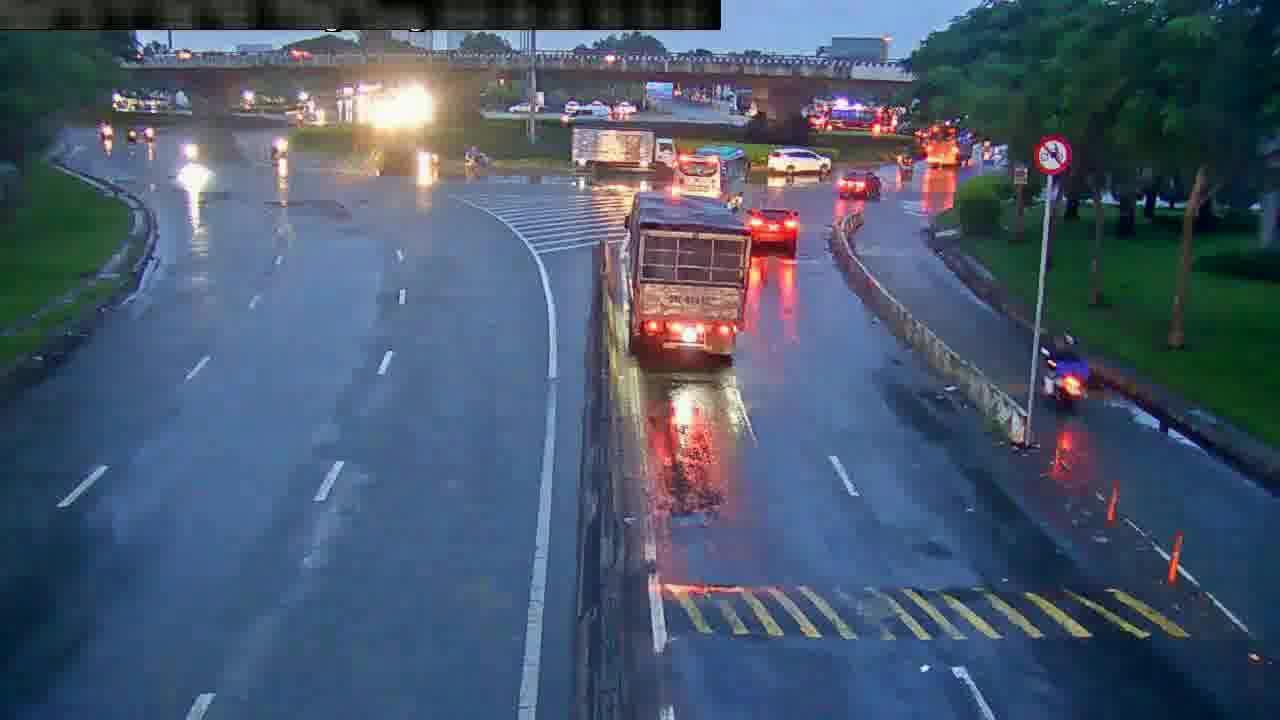14: (675, 146, 750, 212)
8: (626, 192, 747, 367), (568, 125, 680, 174)
container: (749, 207, 802, 250), (763, 147, 833, 176), (840, 166, 885, 197)
motorbike: (1039, 326, 1086, 411)
